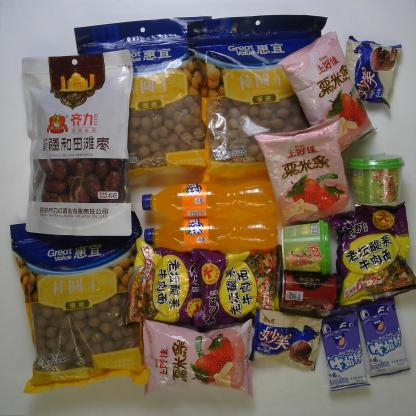Candy: (354, 294, 412, 379), (317, 304, 372, 393)
Canned Food: (277, 271, 343, 317)
Dessert: (248, 306, 325, 374), (344, 34, 404, 111)
Dried Food: (9, 208, 151, 398), (74, 16, 229, 186), (20, 48, 138, 245), (186, 13, 329, 170)
Drink: (142, 211, 280, 253), (139, 179, 276, 221)
Instant Drink: (345, 153, 407, 206), (280, 218, 332, 277)
Instant Noodles: (328, 201, 416, 310), (122, 238, 221, 330), (189, 242, 284, 330)
Puffed Food: (274, 28, 378, 159), (254, 114, 358, 232), (139, 316, 256, 402)
